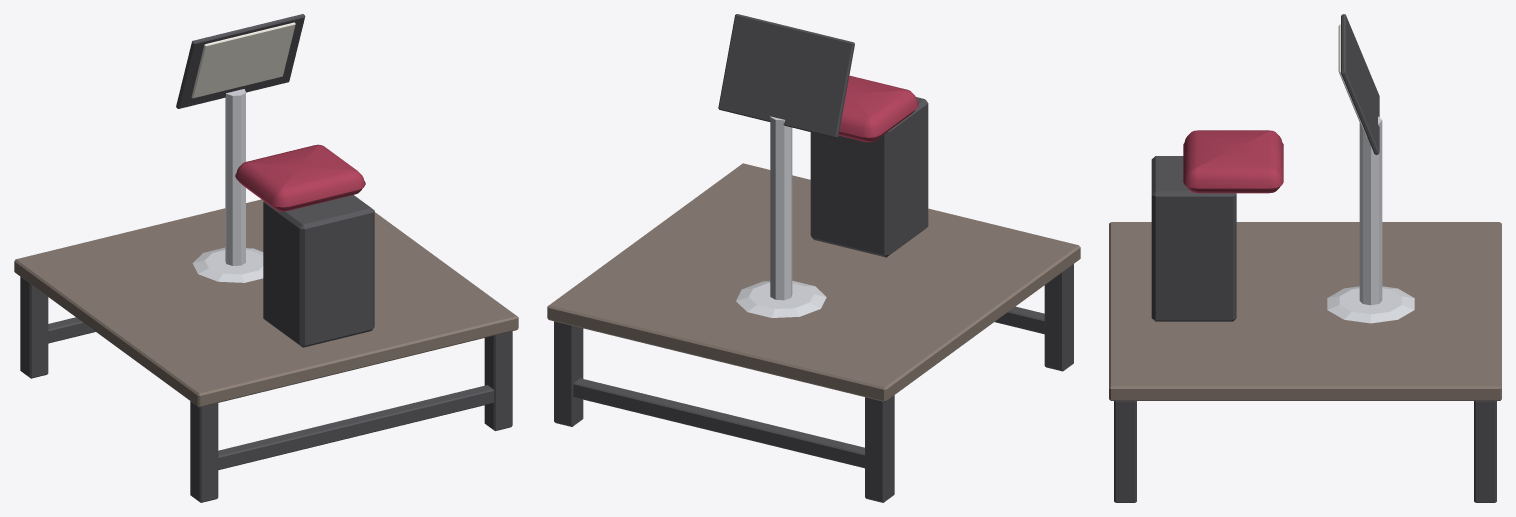
Rendered from theatre-stage-and-backstage-orchestra-pit-rostrum-8834f48d.glb.
3 views of the same model, side by side, from view 1: azimuth 30°, elevation 25°; view 2: azimuth 150°, elevation 25°; view 3: azimuth 270°, elevation 25° (orthographic). The views are drawn at different scales.
Visible parts, largest first — view 1: orchestra-pit-rostrum; view 2: orchestra-pit-rostrum; view 3: orchestra-pit-rostrum.
Part boxes in pixels (left/top/right/bottom): orchestra-pit-rostrum: left=14, top=14, right=518, bottom=502; orchestra-pit-rostrum: left=547, top=14, right=1080, bottom=502; orchestra-pit-rostrum: left=1109, top=14, right=1501, bottom=502.
Size of the model in its own units: 1.2 by 1.28 by 1.2.
